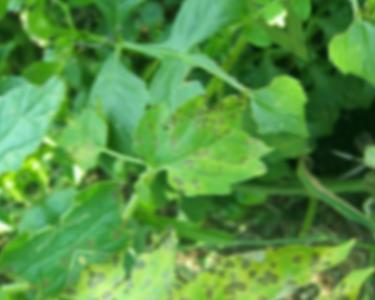Tomato Septoria leaf spot: (98, 150, 355, 300), (111, 52, 292, 233)
